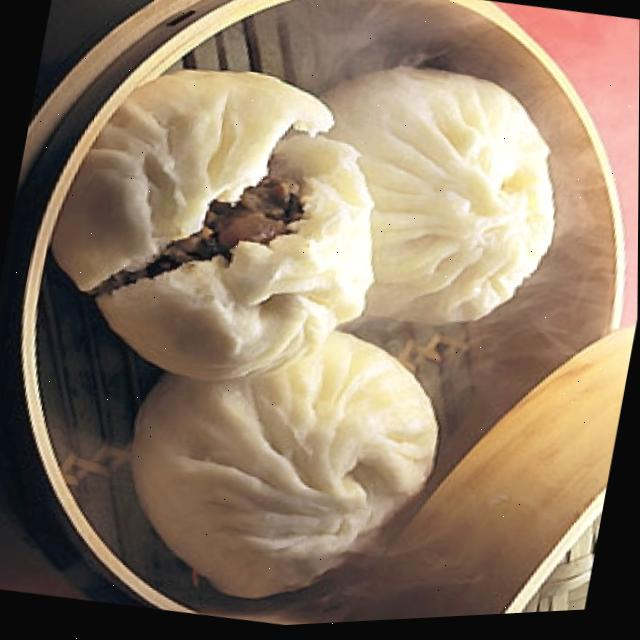带馅早点: (13, 0, 628, 626)
